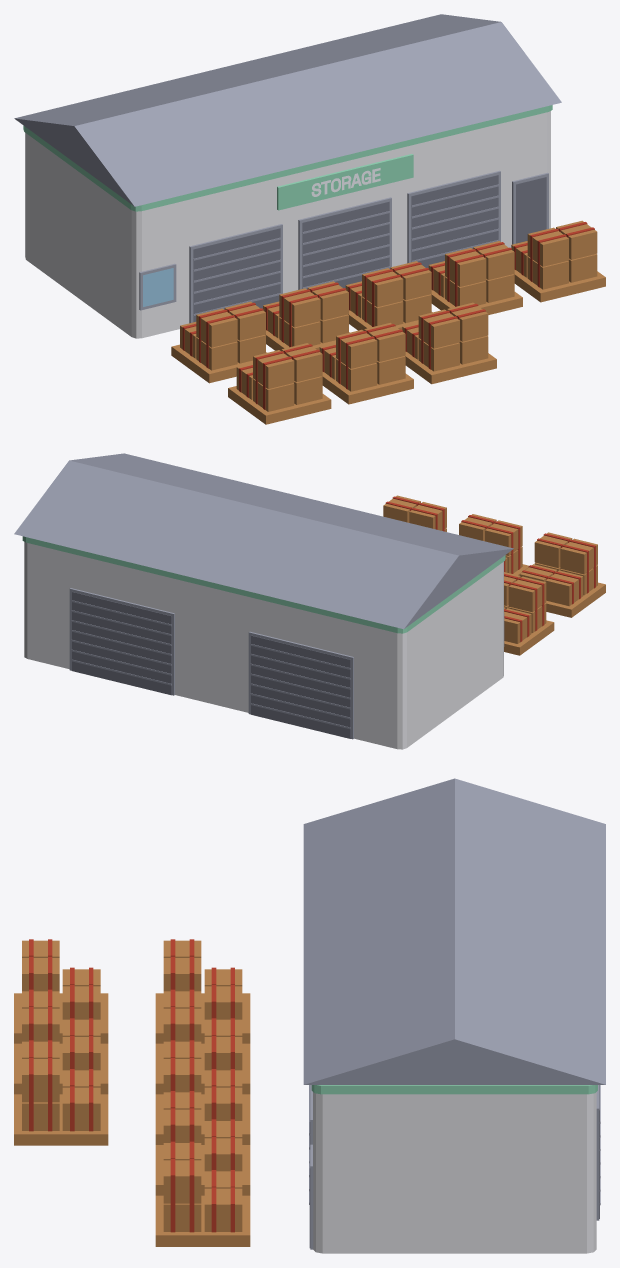
The model's file is storehouse-2x2-t8-tone-a.glb.
3 views of the same model, one above another, from view 1: azimuth 30°, elevation 25°; view 2: azimuth 150°, elevation 25°; view 3: azimuth 270°, elevation 25° (orthographic). The views are drawn at different scales.
Parts seen in each view (by area): view 1: storehouse-2x2-t8-tone-a; view 2: storehouse-2x2-t8-tone-a; view 3: storehouse-2x2-t8-tone-a.
Part boxes in pixels (x1=…): storehouse-2x2-t8-tone-a: x1=14, y1=14, x2=605, y2=424; storehouse-2x2-t8-tone-a: x1=14, y1=453, x2=605, y2=749; storehouse-2x2-t8-tone-a: x1=14, y1=778, x2=605, y2=1253.
Bounding box in the file's own units: 1.96 × 0.76 × 1.88.
1 material, 1 textured.
